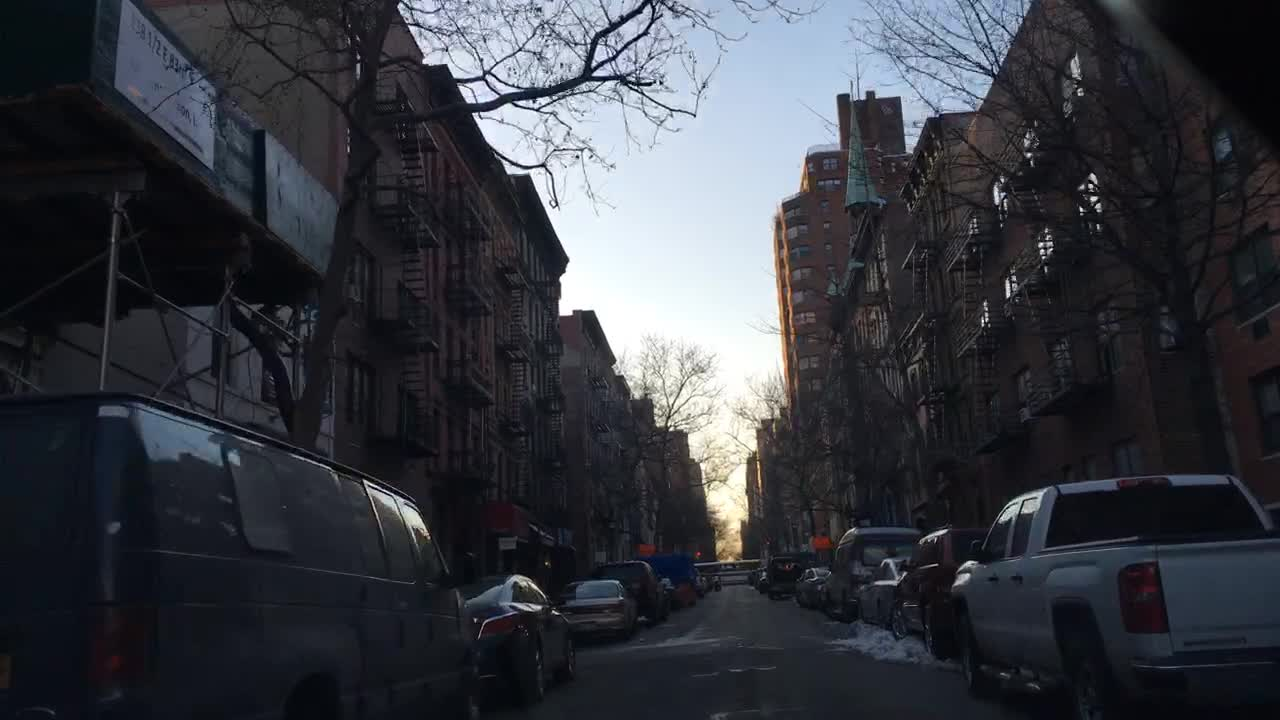bike: (713, 578, 722, 597)
bus: (692, 558, 760, 583)
car: (1, 390, 483, 719), (460, 571, 577, 709), (887, 528, 999, 660), (820, 528, 922, 614), (847, 555, 915, 630), (558, 577, 639, 637), (591, 558, 660, 623), (765, 551, 808, 598), (793, 565, 838, 607), (651, 572, 672, 614), (663, 577, 691, 607), (740, 570, 768, 593), (684, 574, 707, 602), (674, 577, 698, 602), (751, 569, 773, 595)
rider: (711, 569, 722, 590)
traffic light: (694, 545, 701, 564)
truck: (946, 474, 1279, 708)
